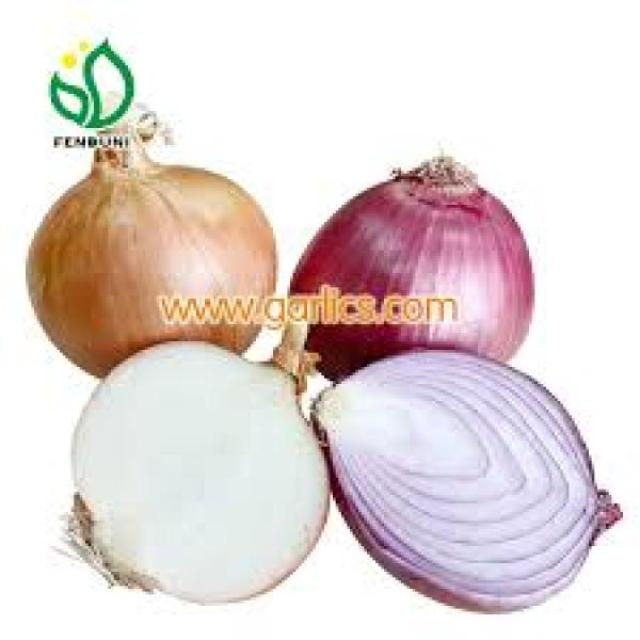Onion: (25, 144, 287, 383), (289, 158, 538, 385)
